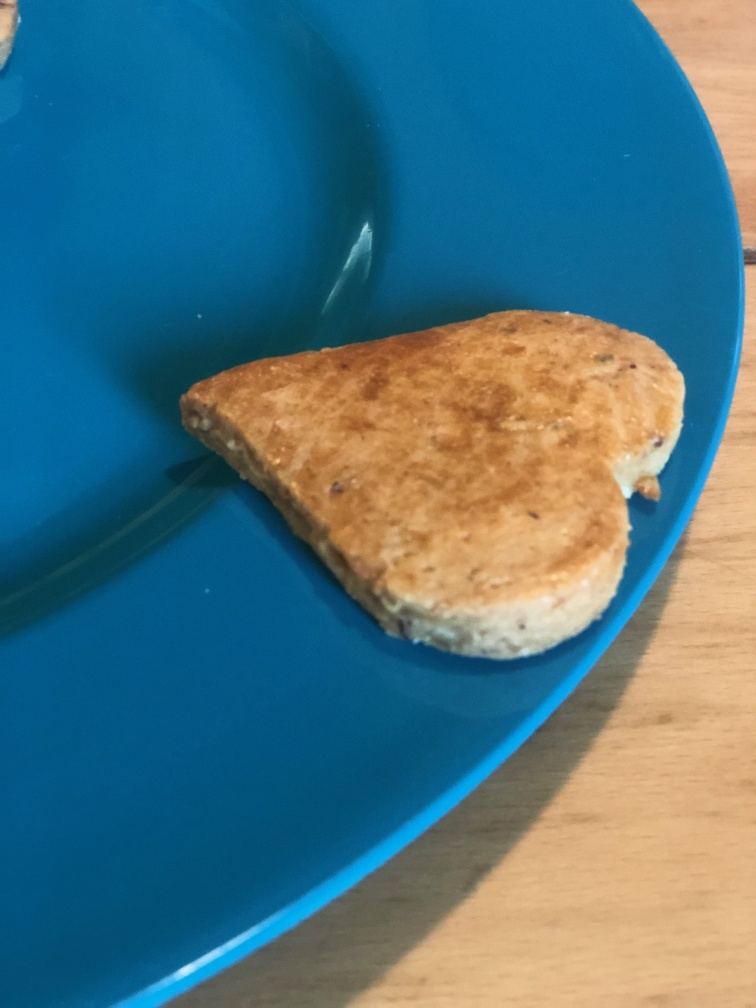heart: (179, 307, 685, 665)
